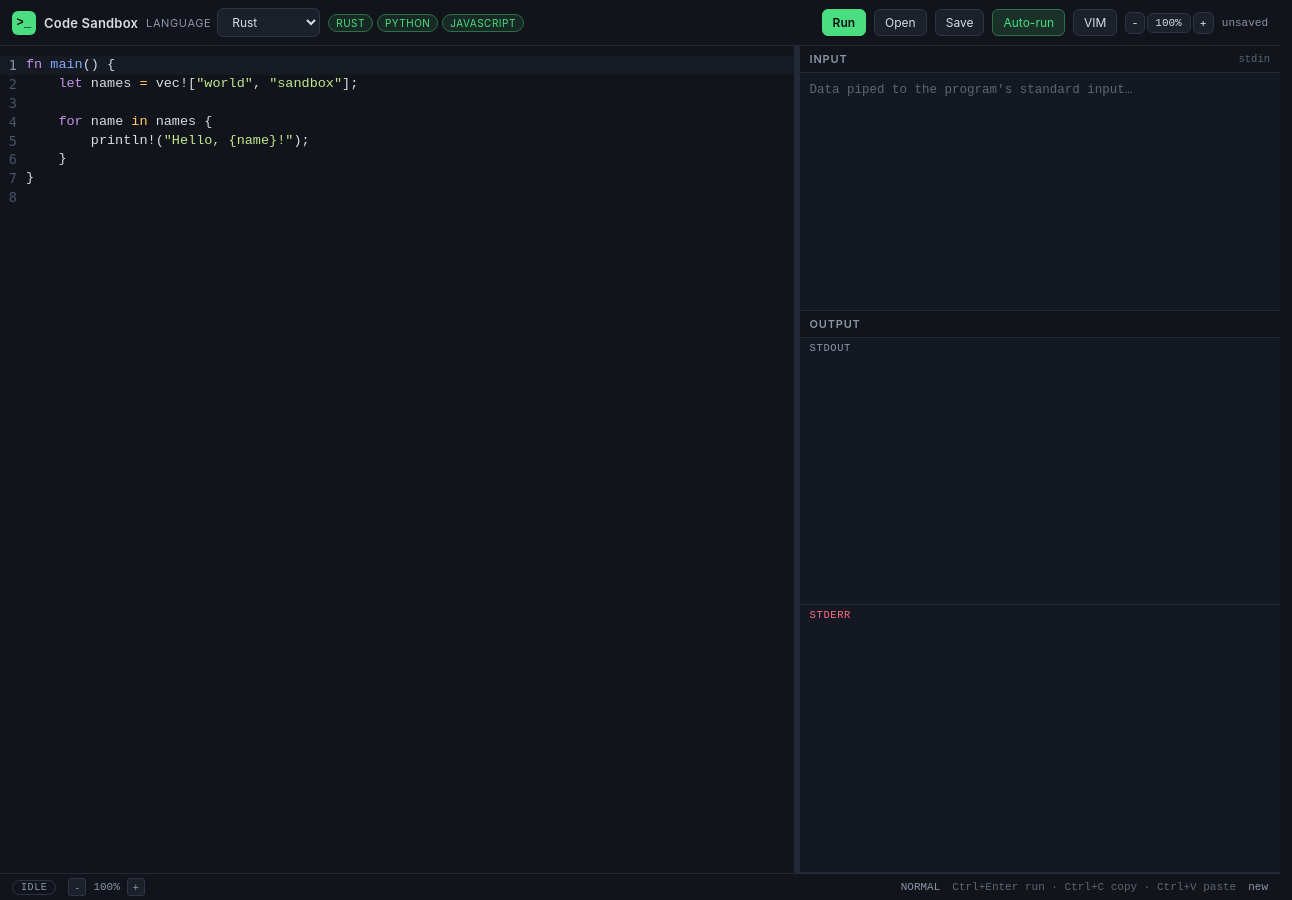
Test case: Code Sandbox › runs the code and shows the output
Click the button "Run". click: {"x": 844, "y": 22}
box: [822,9,866,36]
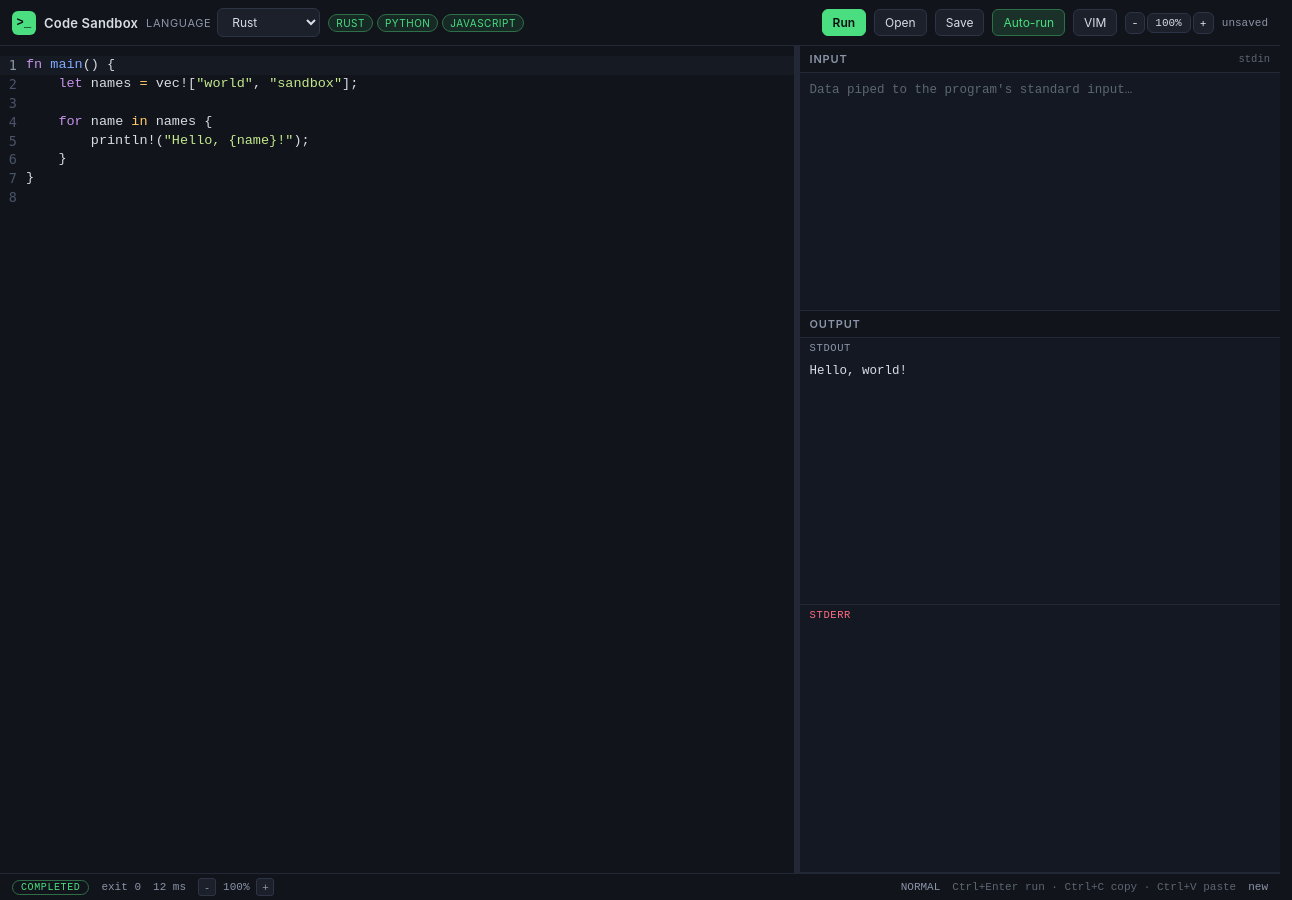
Result: the text "Hello, world!" is shown at [810,364,907,378]
